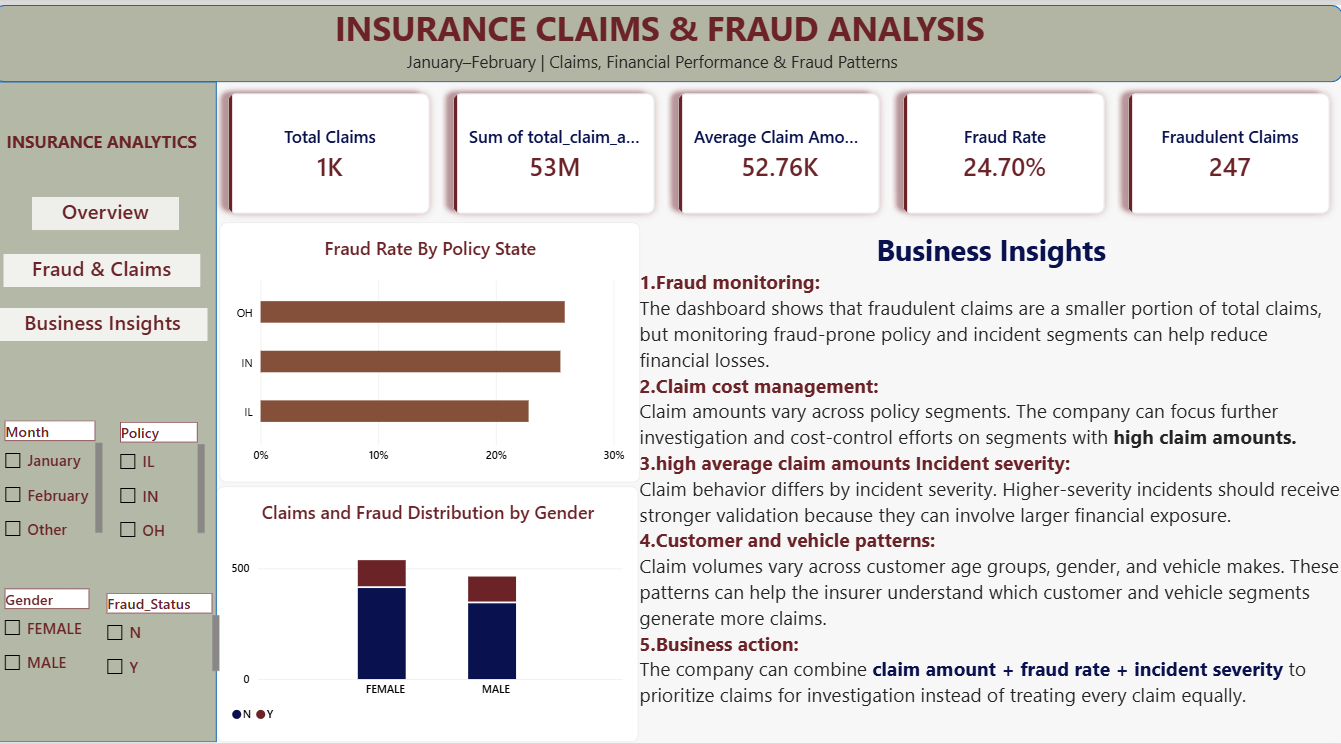

The dashboard page shown, as its layout file describes it:
{"tool":"powerbi","page":{"name":"Business Insights","canvas":[1500,820],"ordinal":2},"visuals":[{"type":"clusteredBarChart","title":"Fraud Rate By Policy State","fields":{"Category":["insurance dataset.policy_state"],"Y":["insurance dataset.Fraud Rate"]},"box":[251.4,241.4,467.1,288.6],"z":0},{"type":"columnChart","title":"Claims and Fraud Distribution by Gender","fields":{"Category":["insurance dataset.insured_sex"],"Series":["insurance dataset.fraud_reported"],"Y":["insurance dataset.Total Claims"]},"box":[248.6,535.7,468.6,284.3],"z":1000},{"type":"shape","box":[0,0,1500,85.7],"z":2000},{"type":"shape","box":[0,85.7,248.6,734.3],"z":3000},{"type":"cardVisual","fields":{"Data":["insurance dataset.Total Claims","Sum(insurance dataset.total_claim_amount)","insurance dataset.Average Claim Amount","insurance dataset.Fraud Rate","insurance dataset.Fraudulent Claims"]},"box":[248.6,85.7,1251.7,160],"z":4000},{"type":"textbox","box":[208.3,0,1065,50],"z":5000},{"type":"textbox","box":[408.3,50,648.3,35],"z":6000},{"type":"actionButton","title":"Overview","box":[43.3,213.3,163.3,36.7],"z":7000},{"type":"actionButton","title":"Fraud & Claims","box":[11.7,276.7,218.3,36.7],"z":8000},{"type":"textbox","box":[15,138.3,220,46.7],"z":9000},{"type":"textbox","box":[718.6,250,781.4,570],"z":10000},{"type":"actionButton","title":"Business Insights ","box":[5,336.7,233.3,36.7],"z":11000},{"type":"slicer","fields":{"Values":["insurance dataset.Incident Month Name"]},"box":[5,461.7,116.7,136.7],"z":11001},{"type":"slicer","fields":{"Values":["insurance dataset.policy_state"]},"box":[133.3,463.3,101.7,135],"z":11002},{"type":"slicer","fields":{"Values":["insurance dataset.insured_sex"]},"box":[5,648.3,110,108.3],"z":11003},{"type":"slicer","fields":{"Values":["insurance dataset.fraud_reported"]},"box":[118.3,653.3,133.3,98.3],"z":11004}]}

Visuals, with their boxes in screenshot pixels (x1, y1, x2, y2), scaled from the page's 1500x820 canvas onto the 1341x744 screenshot:
"Fraud Rate By Policy State" clusteredBarChart: 225/219/642/481
"Claims and Fraud Distribution by Gender" columnChart: 222/486/641/743
shape: 0/0/1340/78
shape: 0/78/222/743
cardVisual - insurance dataset.Total Claims x Sum(insurance dataset.total_claim_amount): 222/78/1340/223
textbox: 186/0/1138/45
textbox: 365/45/945/77
"Overview" actionButton: 39/194/185/227
"Fraud & Claims" actionButton: 10/251/206/284
textbox: 13/125/210/168
textbox: 642/227/1340/743
"Business Insights " actionButton: 4/305/213/339
slicer - insurance dataset.Incident Month Name: 4/419/109/543
slicer - insurance dataset.policy_state: 119/420/210/543
slicer - insurance dataset.insured_sex: 4/588/103/686
slicer - insurance dataset.fraud_reported: 106/593/225/682
